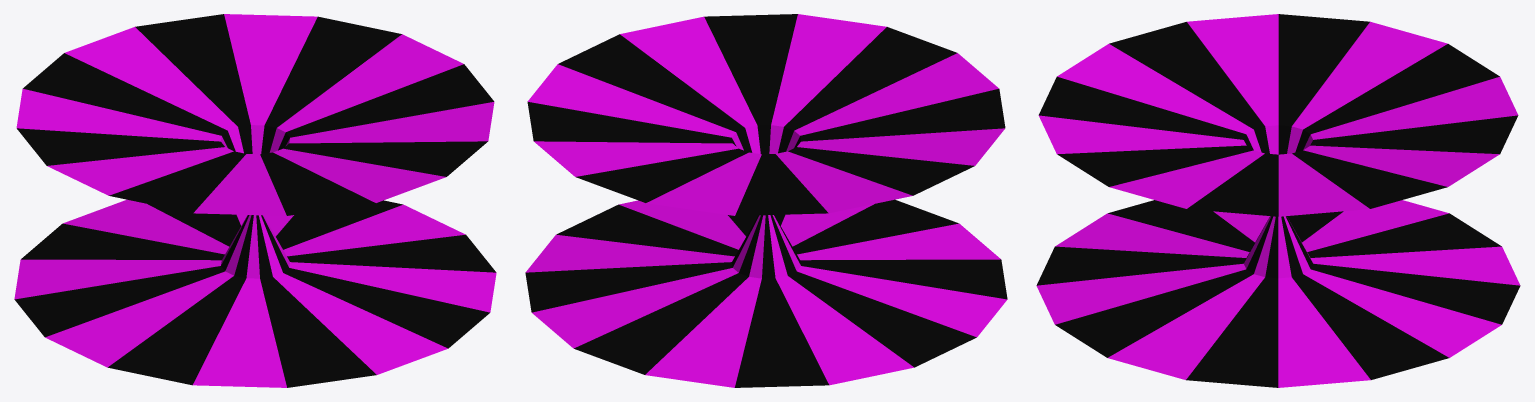
File: javilKarusel.fbx
3 renders of one model, left to right at view 1: azimuth 30°, elevation 25°; view 2: azimuth 150°, elevation 25°; view 3: azimuth 270°, elevation 25°, orthographic.
Parts seen in each view (by area): view 1: Cylinder; view 2: Cylinder; view 3: Cylinder.
Boxes of the visible parts, left/top/right/bottom form: Cylinder: left=14, top=14, right=496, bottom=387; Cylinder: left=525, top=14, right=1007, bottom=387; Cylinder: left=1036, top=14, right=1520, bottom=387.
Size of the model in its own units: 1116 by 433 by 1116.
